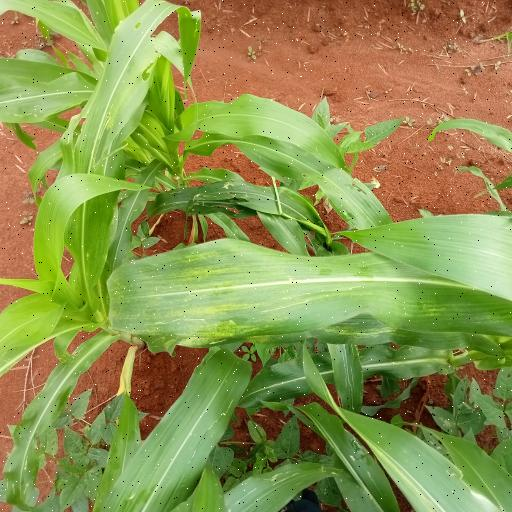Corn_Brown_Spots: (104, 240, 512, 347)
